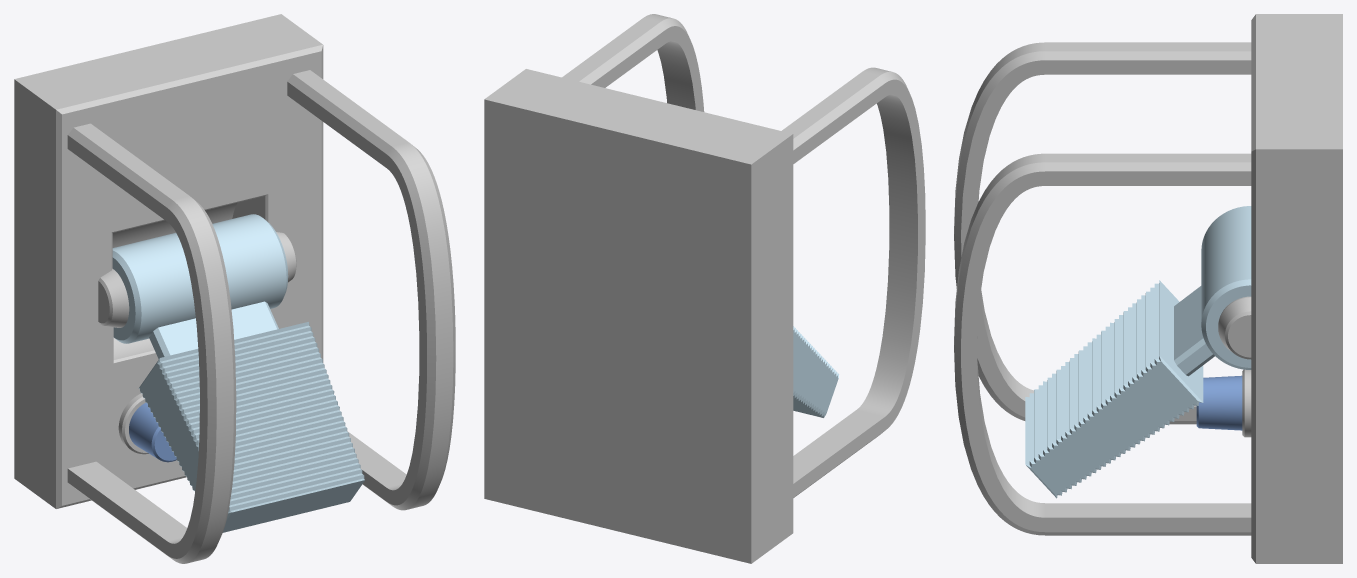
Rendered from toggle_switch.gltf.
The picture shows the model from 3 angles, left to right: view 1: azimuth 30°, elevation 25°; view 2: azimuth 150°, elevation 25°; view 3: azimuth 270°, elevation 25°; orthographic projection. The views are drawn at different scales.
Parts seen in each view (by area): view 1: Housing, Switch, Indicator Light; view 2: Housing, Switch; view 3: Housing, Switch, Indicator Light.
Boxes of the visible parts, bbox=[...] form: Housing: bbox=[14, 14, 455, 563]; Switch: bbox=[112, 214, 364, 532]; Indicator Light: bbox=[129, 402, 176, 462]; Housing: bbox=[484, 14, 925, 563]; Switch: bbox=[793, 326, 839, 417]; Housing: bbox=[954, 14, 1342, 563]; Switch: bbox=[1025, 206, 1251, 498]; Indicator Light: bbox=[1196, 375, 1242, 430].
Size of the model in its own units: 0.07 by 0.1 by 0.085.
